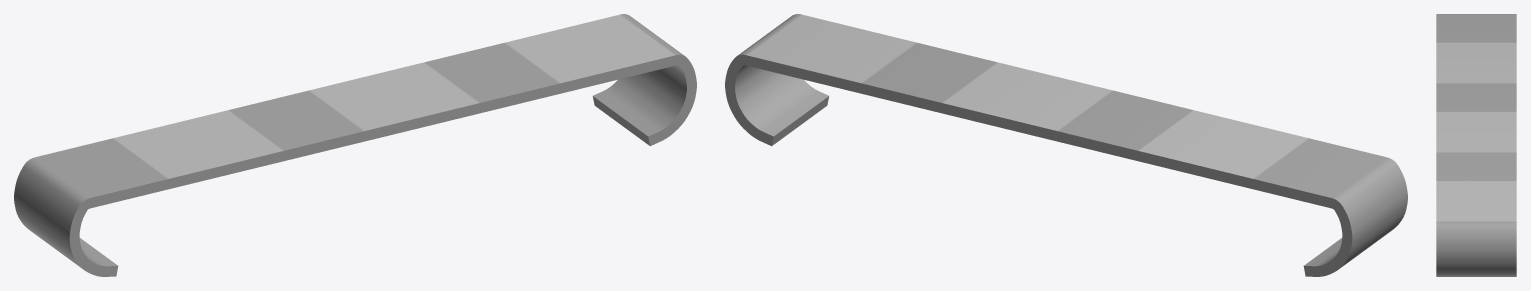
File: M_Conveyor.fbx
3 views of the same model, side by side, from view 1: azimuth 30°, elevation 25°; view 2: azimuth 150°, elevation 25°; view 3: azimuth 270°, elevation 25° (orthographic). The views are drawn at different scales.
Parts seen in each view (by area): view 1: M_Conveyor; view 2: M_Conveyor; view 3: M_Conveyor.
Part boxes in pixels (x1,y1,x2,y2): M_Conveyor: (14,14,696,276); M_Conveyor: (725,14,1407,276); M_Conveyor: (1436,14,1516,276).
Bounding box in the file's own units: 6 × 0.776 × 0.9218.
